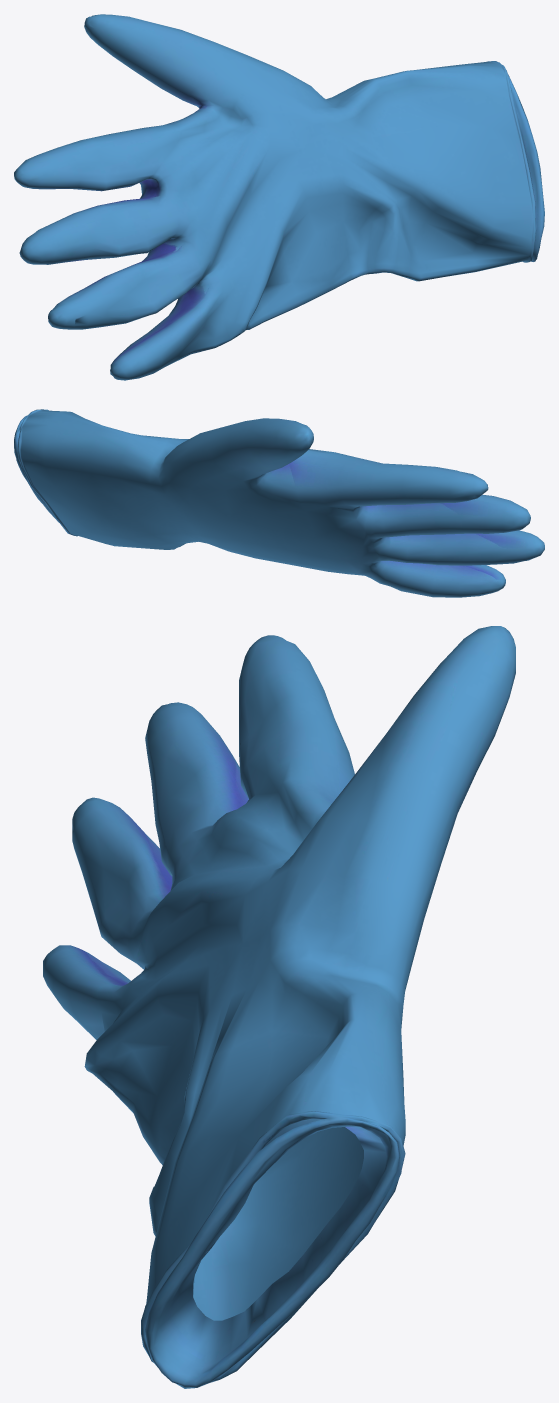
Rendered from 019f47e4-5fb3-7879-83ac-69a4fa9afcea.glb.
The picture shows the model from 3 angles, top to bottom: view 1: azimuth 30°, elevation 25°; view 2: azimuth 150°, elevation 25°; view 3: azimuth 270°, elevation 25°; orthographic projection. The views are drawn at different scales.
Visible parts, largest first — view 1: tripo_node_b3b06817-f2a2-486a-8861-753a362f1f9f; view 2: tripo_node_b3b06817-f2a2-486a-8861-753a362f1f9f; view 3: tripo_node_b3b06817-f2a2-486a-8861-753a362f1f9f.
Boxes of the visible parts, left/top/right/bottom form: tripo_node_b3b06817-f2a2-486a-8861-753a362f1f9f: left=14, top=14, right=544, bottom=380; tripo_node_b3b06817-f2a2-486a-8861-753a362f1f9f: left=14, top=409, right=544, bottom=597; tripo_node_b3b06817-f2a2-486a-8861-753a362f1f9f: left=43, top=626, right=515, bottom=1388.
Bounding box in the file's own units: 0.998 × 0.4824 × 0.4434.
Materials: 1 (1 with a texture image).
